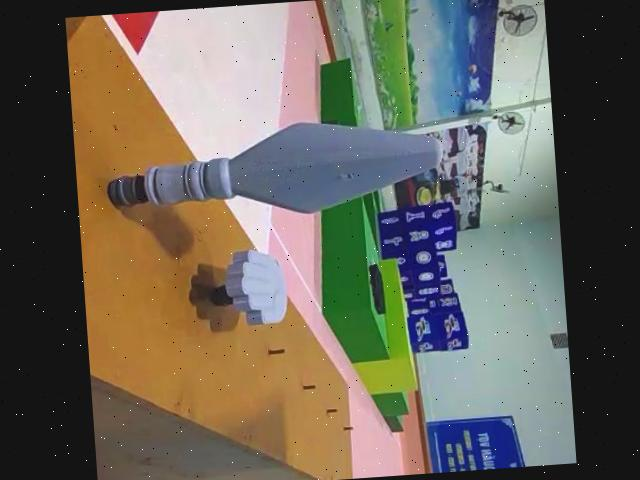Hand: (201, 244, 291, 330)
Sph: (101, 113, 447, 228)
